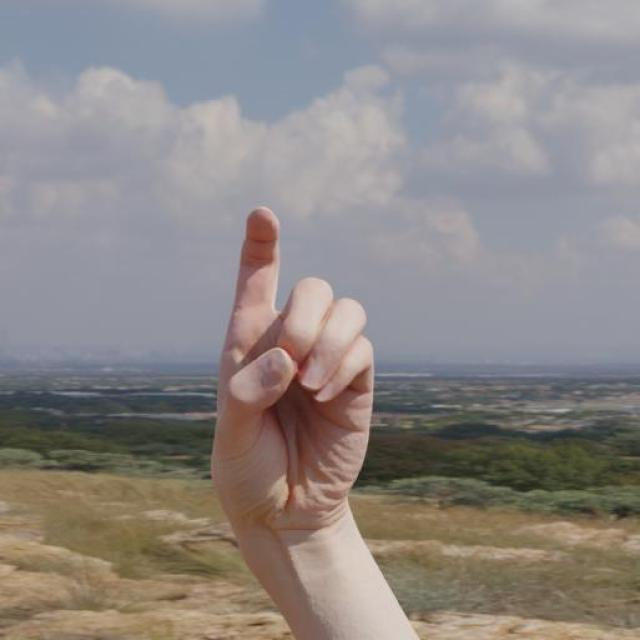X: (178, 173, 398, 615)
